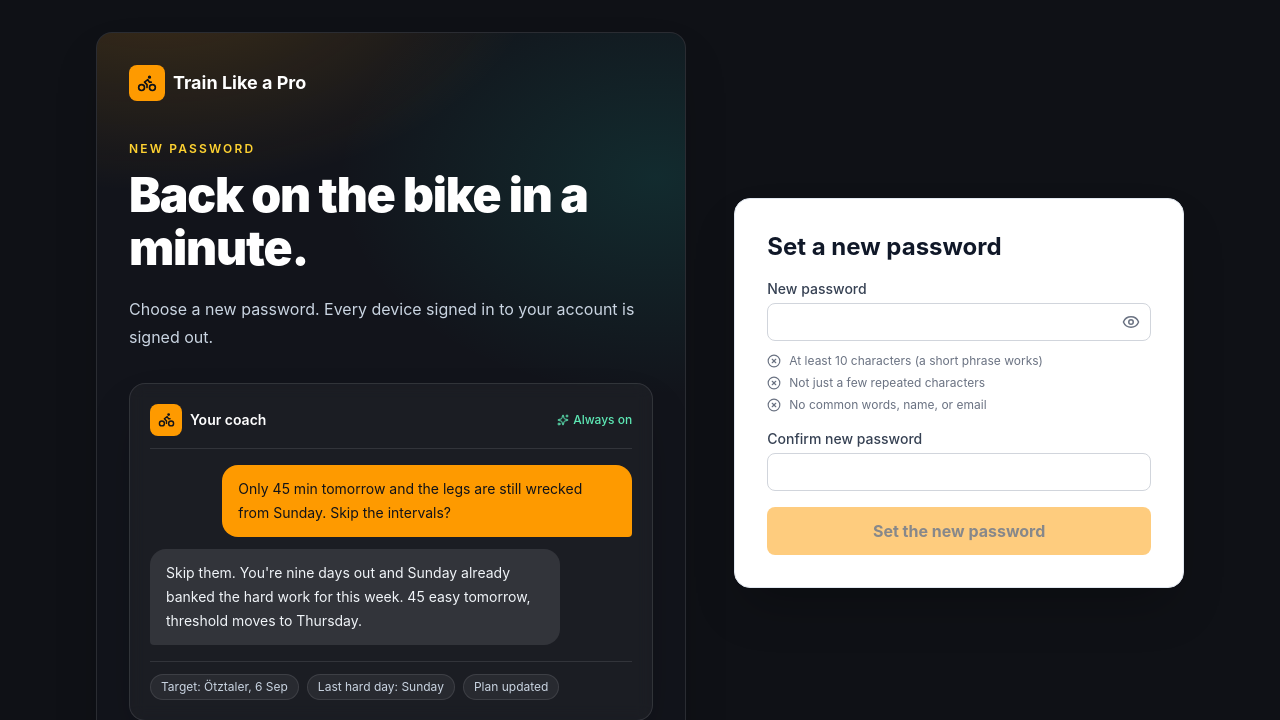
Test: ResetPasswordPage › sets the new password with the token from the link, and takes the token out of the address bar
This screenshot has width=1280, height=720.
Type "gravel climbs at dawn" into the password field labelled "New password".
click(959, 322); type("gravel climbs at dawn")  # box [767,303,1151,341]
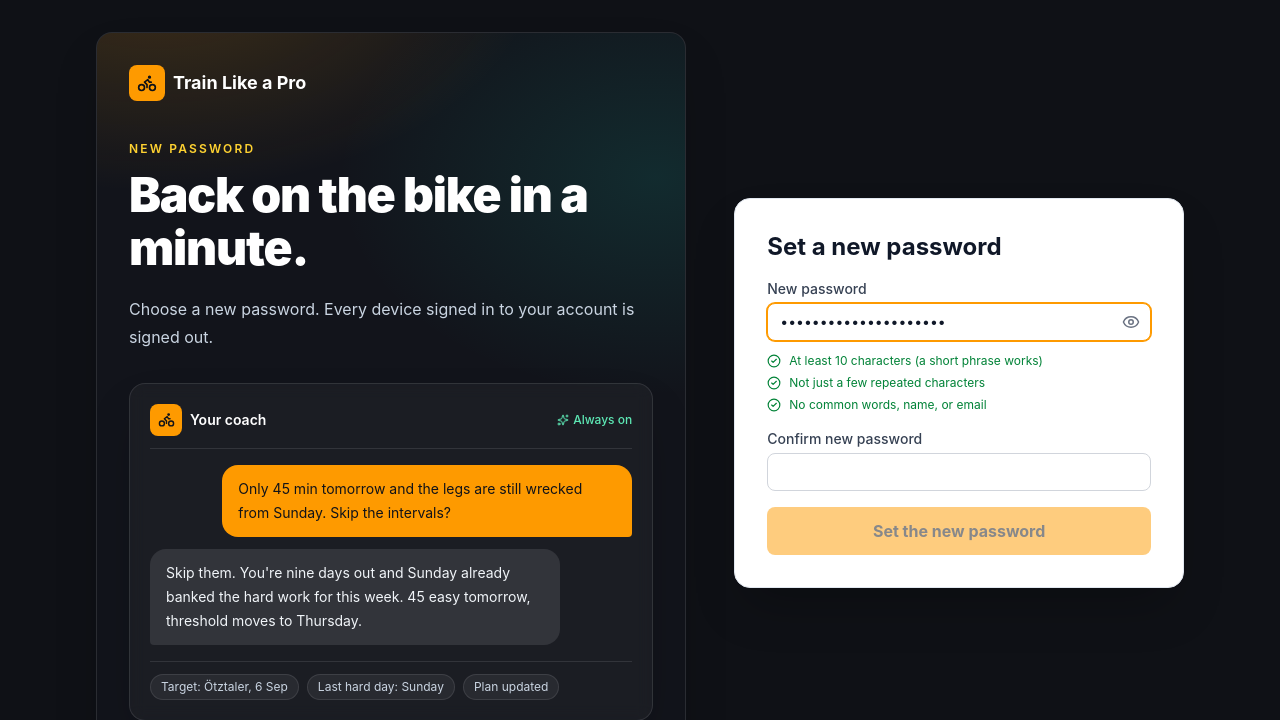
Type "gravel climbs at dawn" into the password field labelled "Confirm new password".
click(959, 472); type("gravel climbs at dawn")  # box [767,453,1151,491]
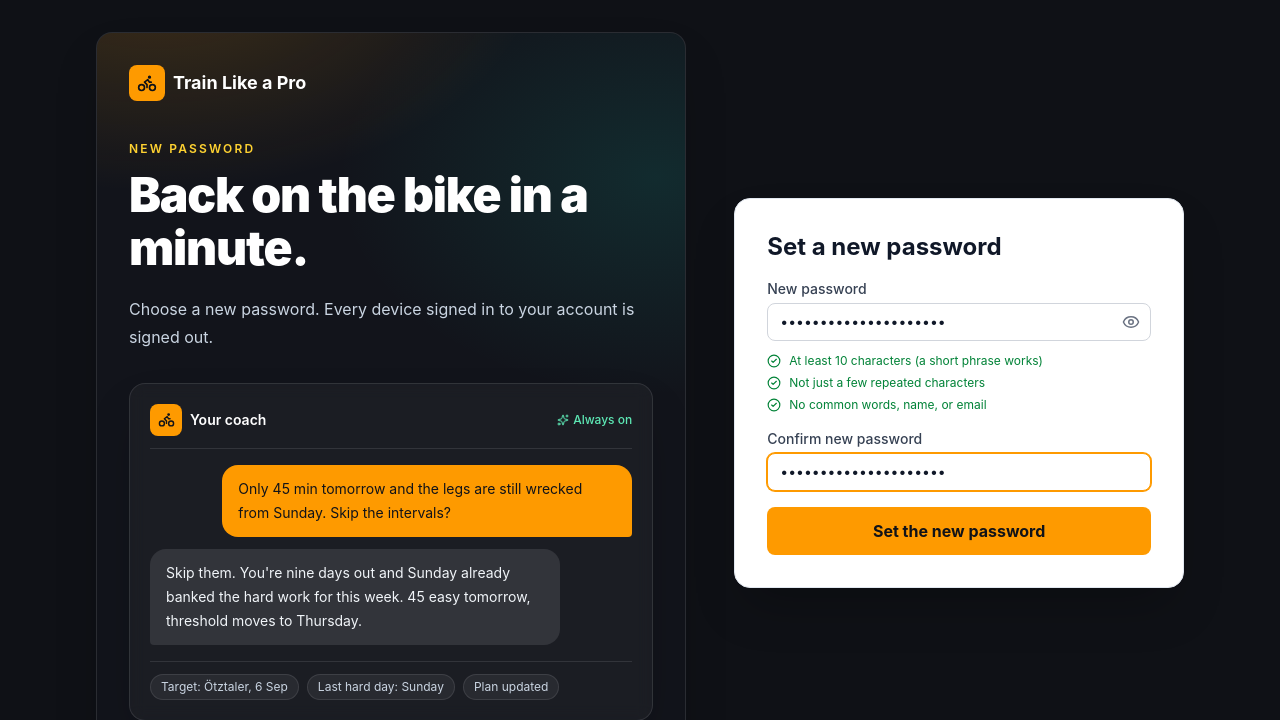
Click the button "Set the new password".
click(959, 531)  # box [767,507,1151,555]
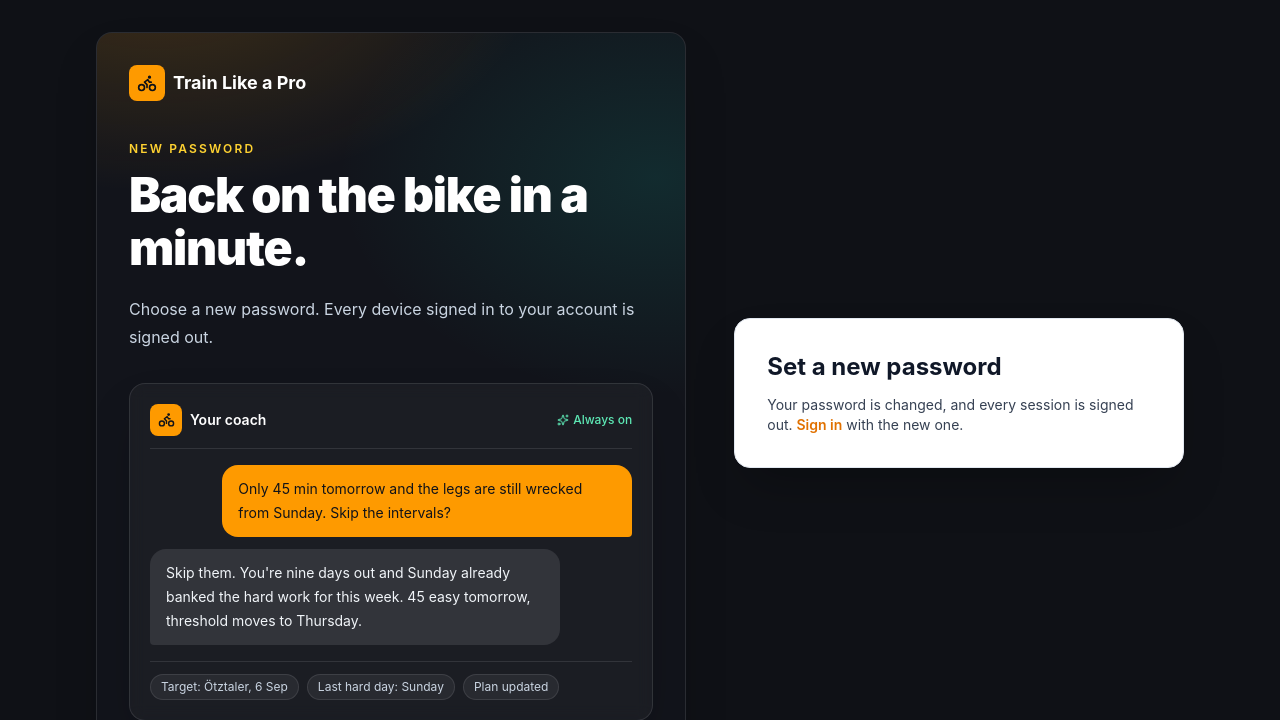
Now the message shows "every session is signed out", box [767,396,1134,433]
